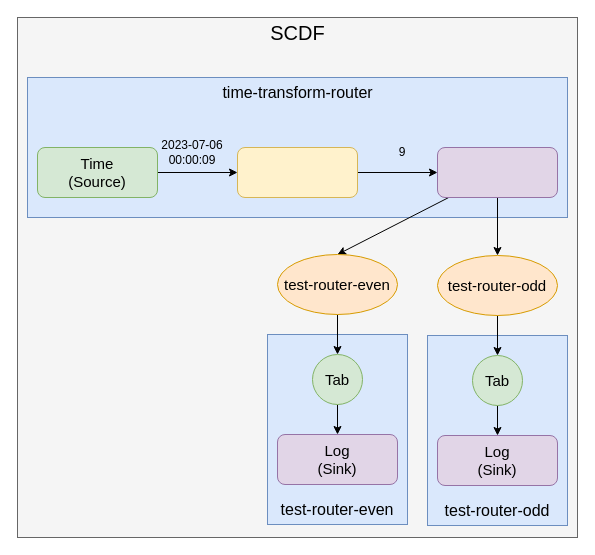
This 595x555 diagram has some shape labels left out. Each missing label, with the centre of its shape:
"Router (Sink)" belongs at (497,172).
"Transform (Processor)" belongs at (297,172).
